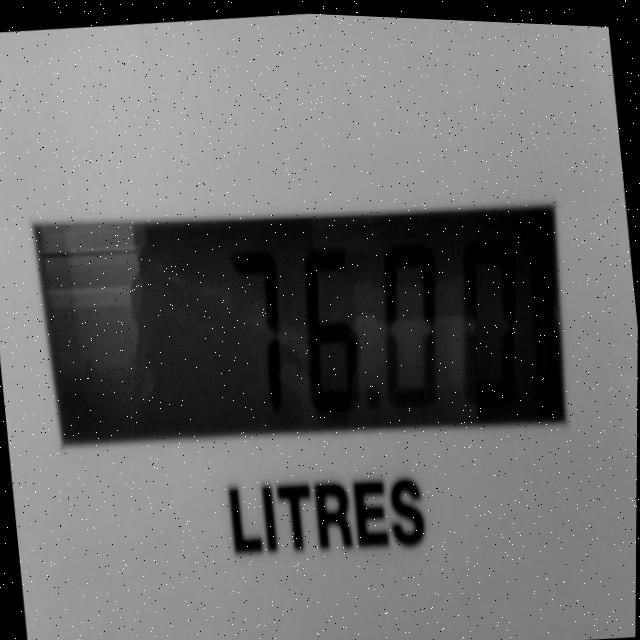.: (361, 372, 388, 423)
0: (446, 233, 544, 419), (364, 221, 452, 405)
6: (288, 239, 366, 419)
7: (220, 218, 301, 421)
